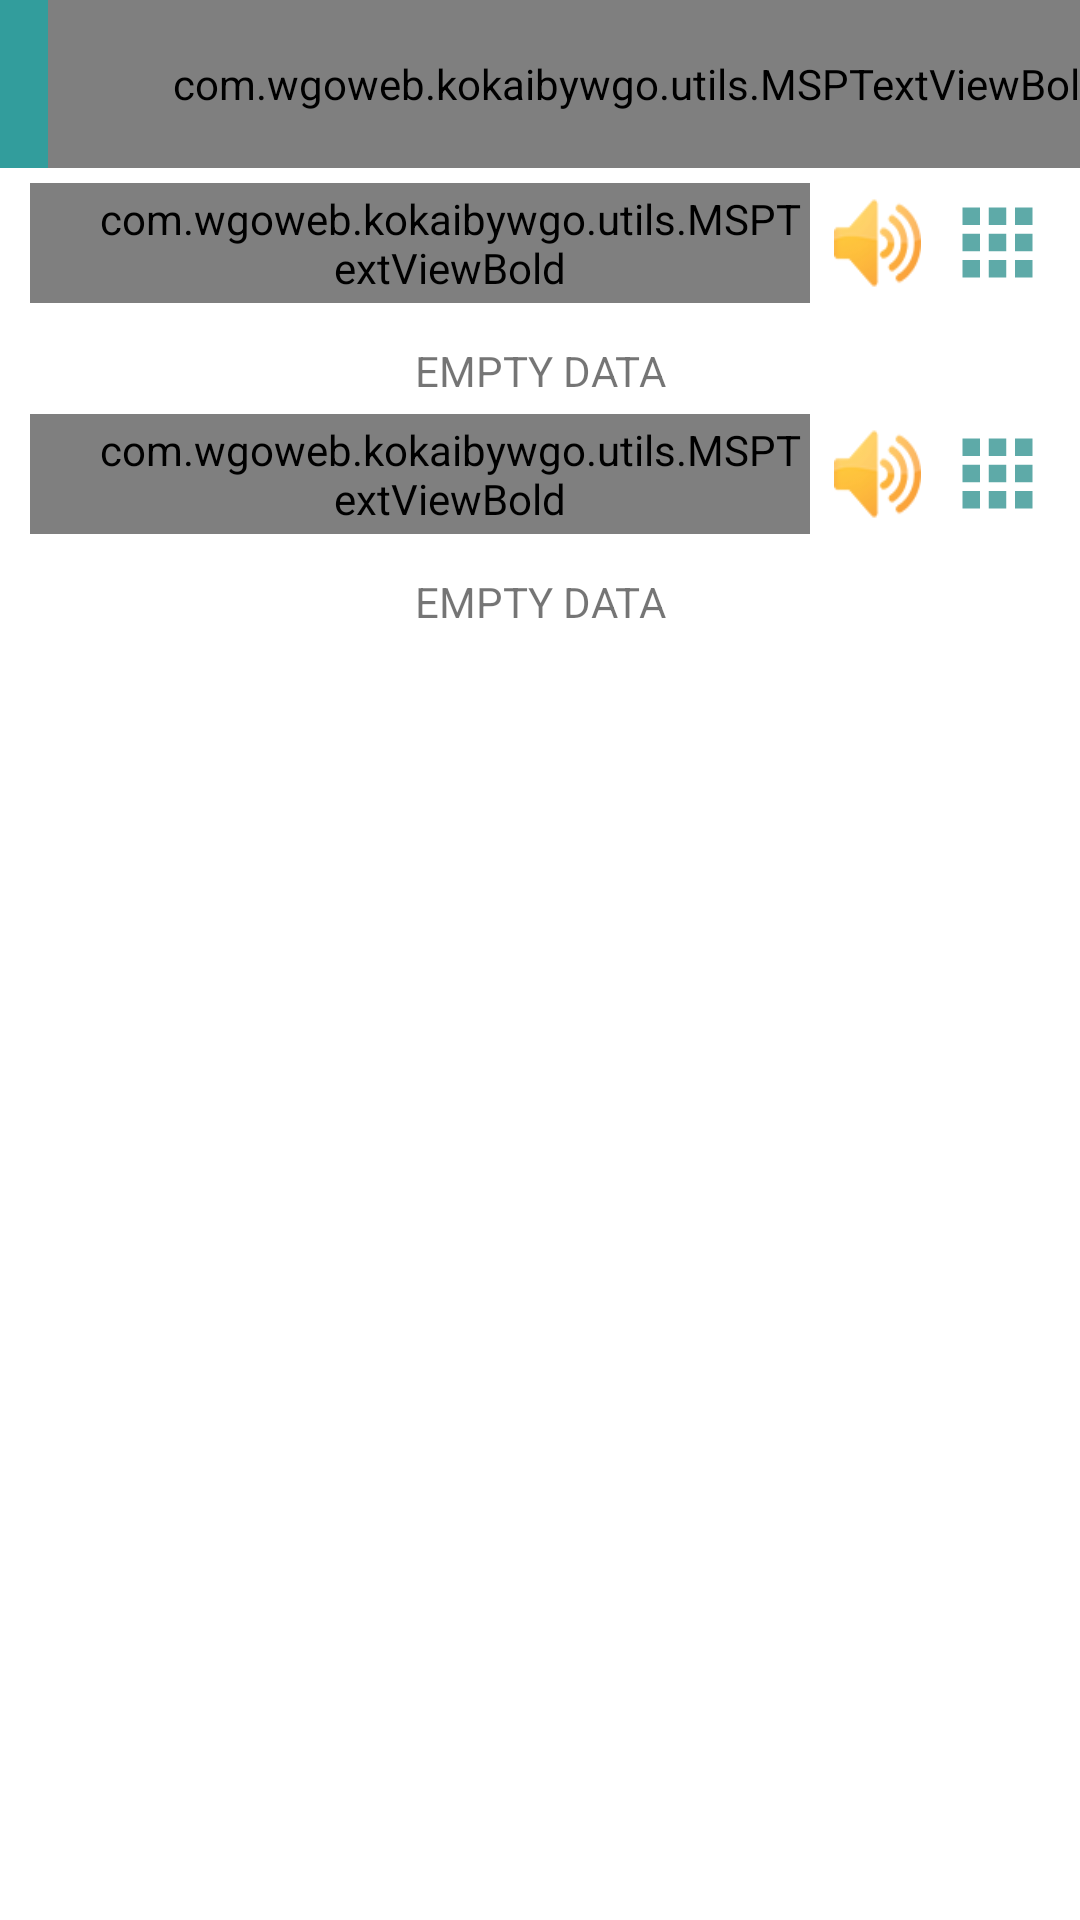

Named icons in this screenshot (1080w x 1920h) and their centers, [x,y]:
tool bar grid: [997,242], [997,473]
